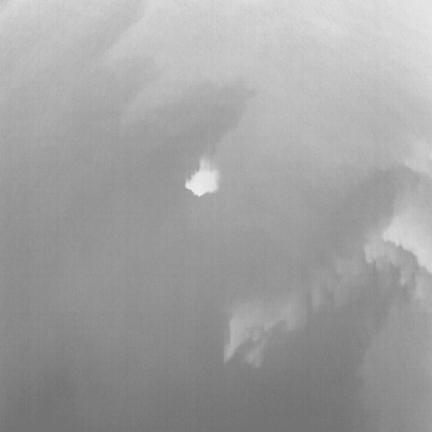flukeprints: (185, 158, 218, 197)
